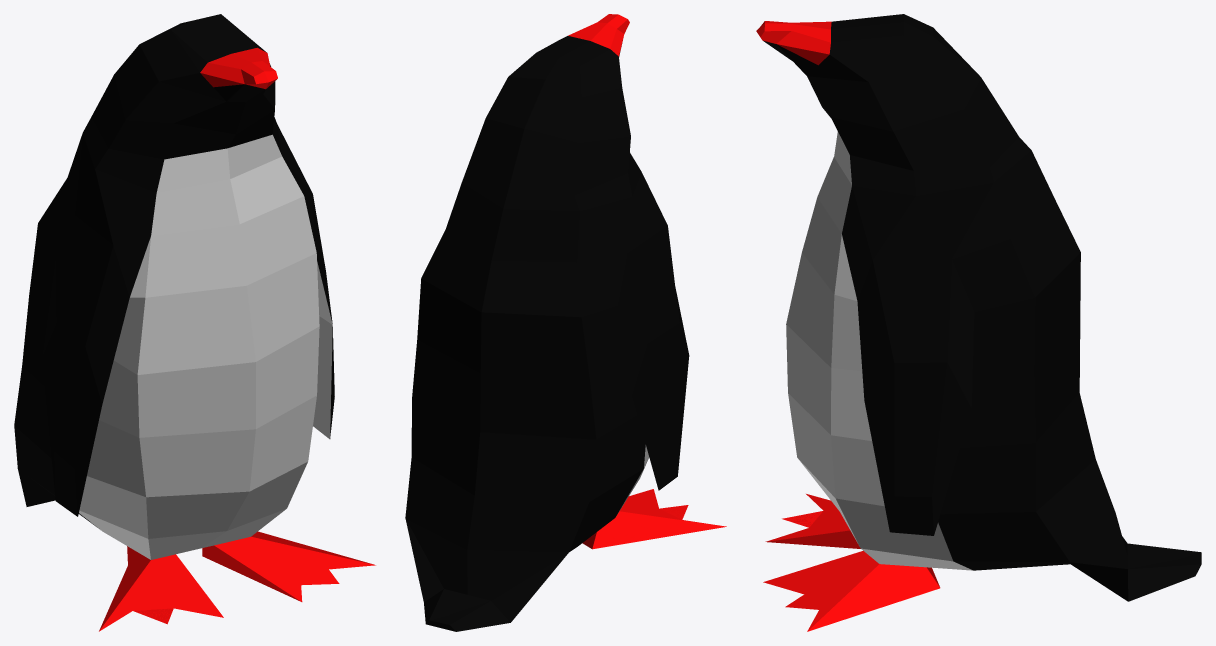
The model's file is pen.obj.
The picture shows the model from 3 angles, left to right: view 1: azimuth 30°, elevation 25°; view 2: azimuth 150°, elevation 25°; view 3: azimuth 270°, elevation 25°; orthographic projection. The views are drawn at different scales.
Parts seen in each view (by area): view 1: Cube_Cube.004; view 2: Cube_Cube.004; view 3: Cube_Cube.004.
Boxes of the visible parts, box(x1,y1,x2,y2) form: Cube_Cube.004: box(14, 14, 375, 631); Cube_Cube.004: box(405, 14, 726, 631); Cube_Cube.004: box(756, 14, 1201, 631).
Size of the model in its own units: 2.75 by 5.2 by 3.76.
